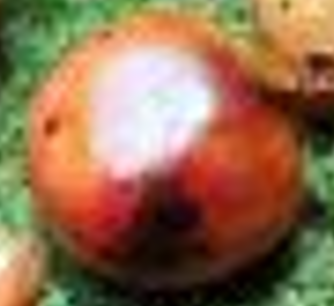pomegranate_B: (26, 10, 306, 289)
